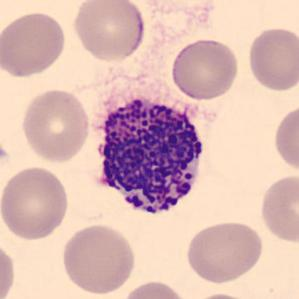Basophil: (86, 83, 214, 228)
Platelets: (0, 142, 10, 168)
RBC: (59, 221, 138, 296), (18, 86, 92, 165), (182, 218, 266, 285), (0, 163, 71, 241), (69, 0, 147, 64), (1, 9, 68, 80), (169, 36, 241, 102), (245, 25, 297, 93), (257, 172, 299, 246), (272, 102, 298, 175), (119, 278, 190, 299), (0, 238, 17, 299), (184, 290, 259, 299)
